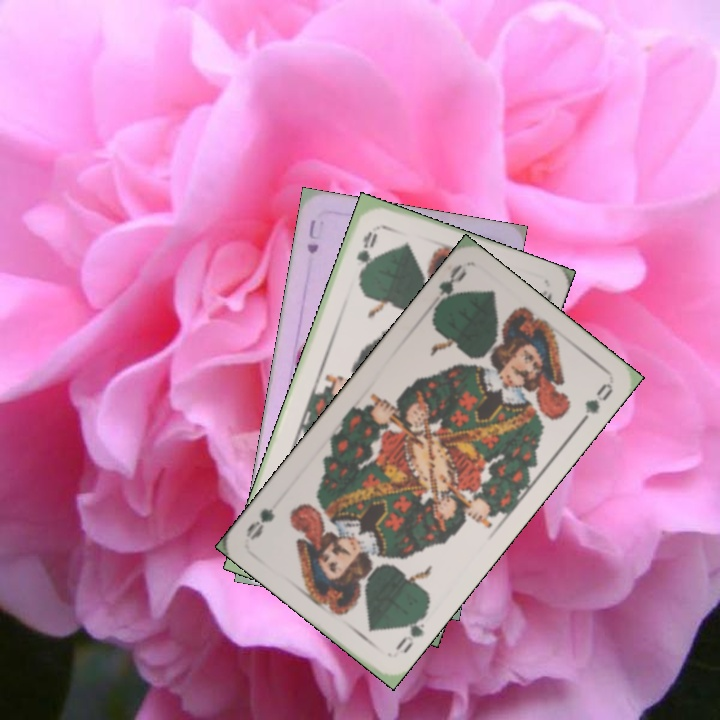GO: (429, 261, 470, 316), (391, 607, 430, 656), (352, 226, 380, 282)
SU: (303, 215, 325, 257)
